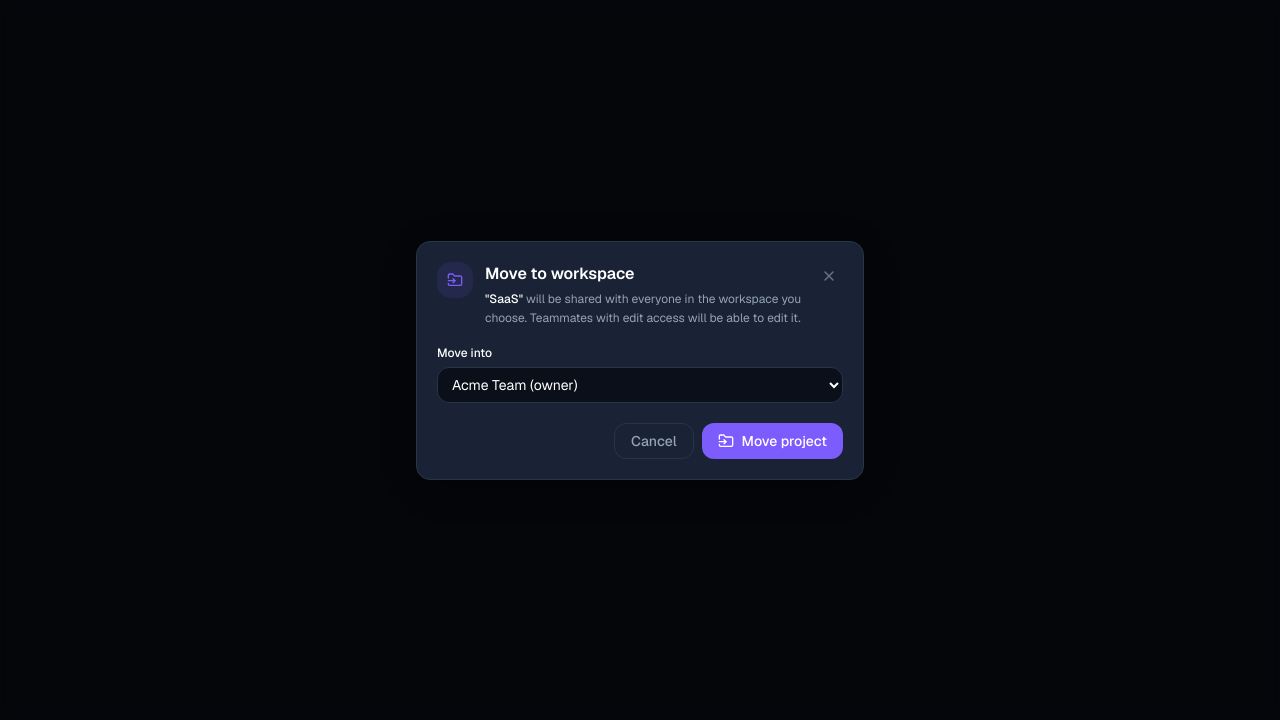
Test case: MoveProjectDialog › keeps the project intact locally and shows the error when the server fails
The width and height of the screenshot is (1280, 720).
What coordinates should you click on to do the following:
click the button with test id "move-project-confirm"
I would click on:
 (772, 440)
Its box is [702,422,843,458].
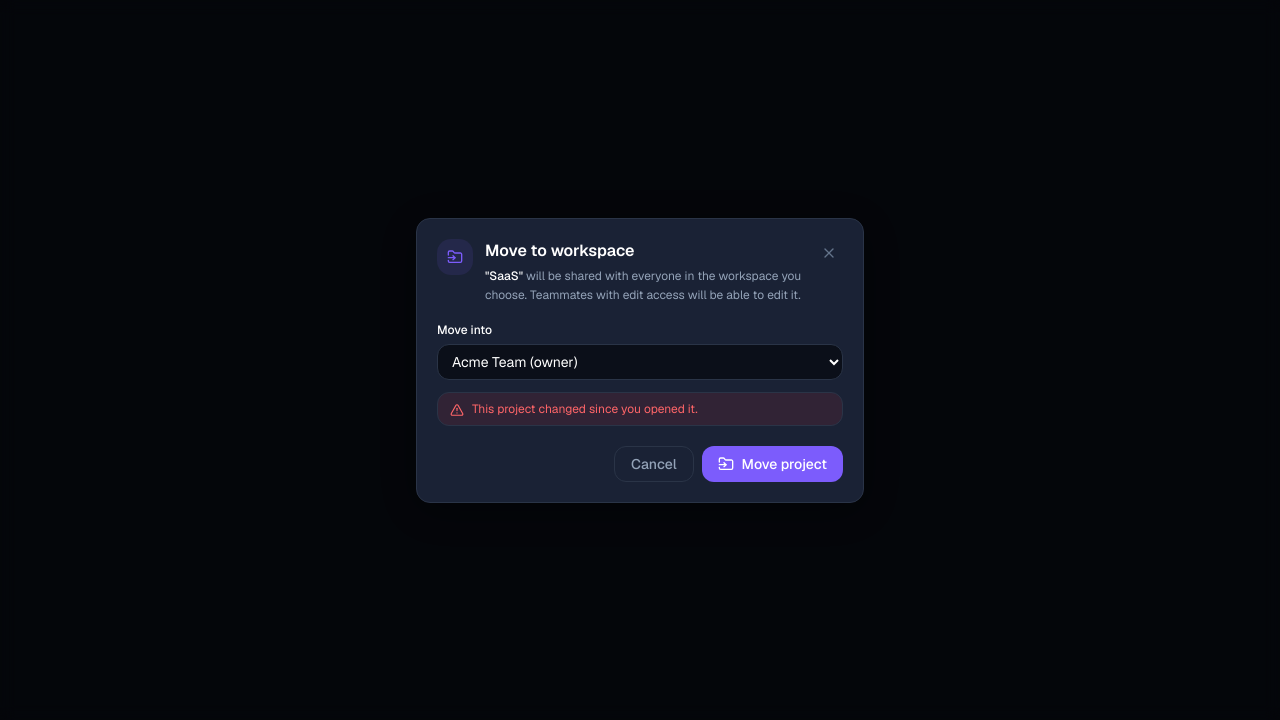
Expected: the message "This project changed since you opened it." is shown, [437,392,843,426]
